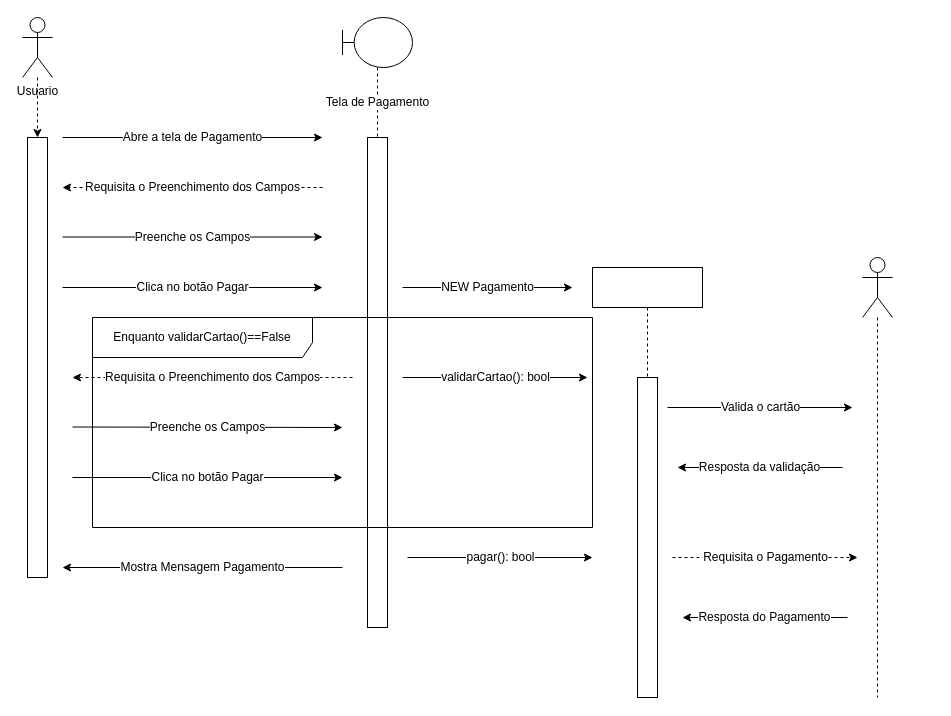
The diagram is 951 pixels wide and 716 high, and some of its shapes have lost their labels. The centre of each missing label's shape, as x and y in pixels:
"Gateway Pagamento" goes at (x=877, y=287).
"Pagamento" goes at (x=647, y=287).
